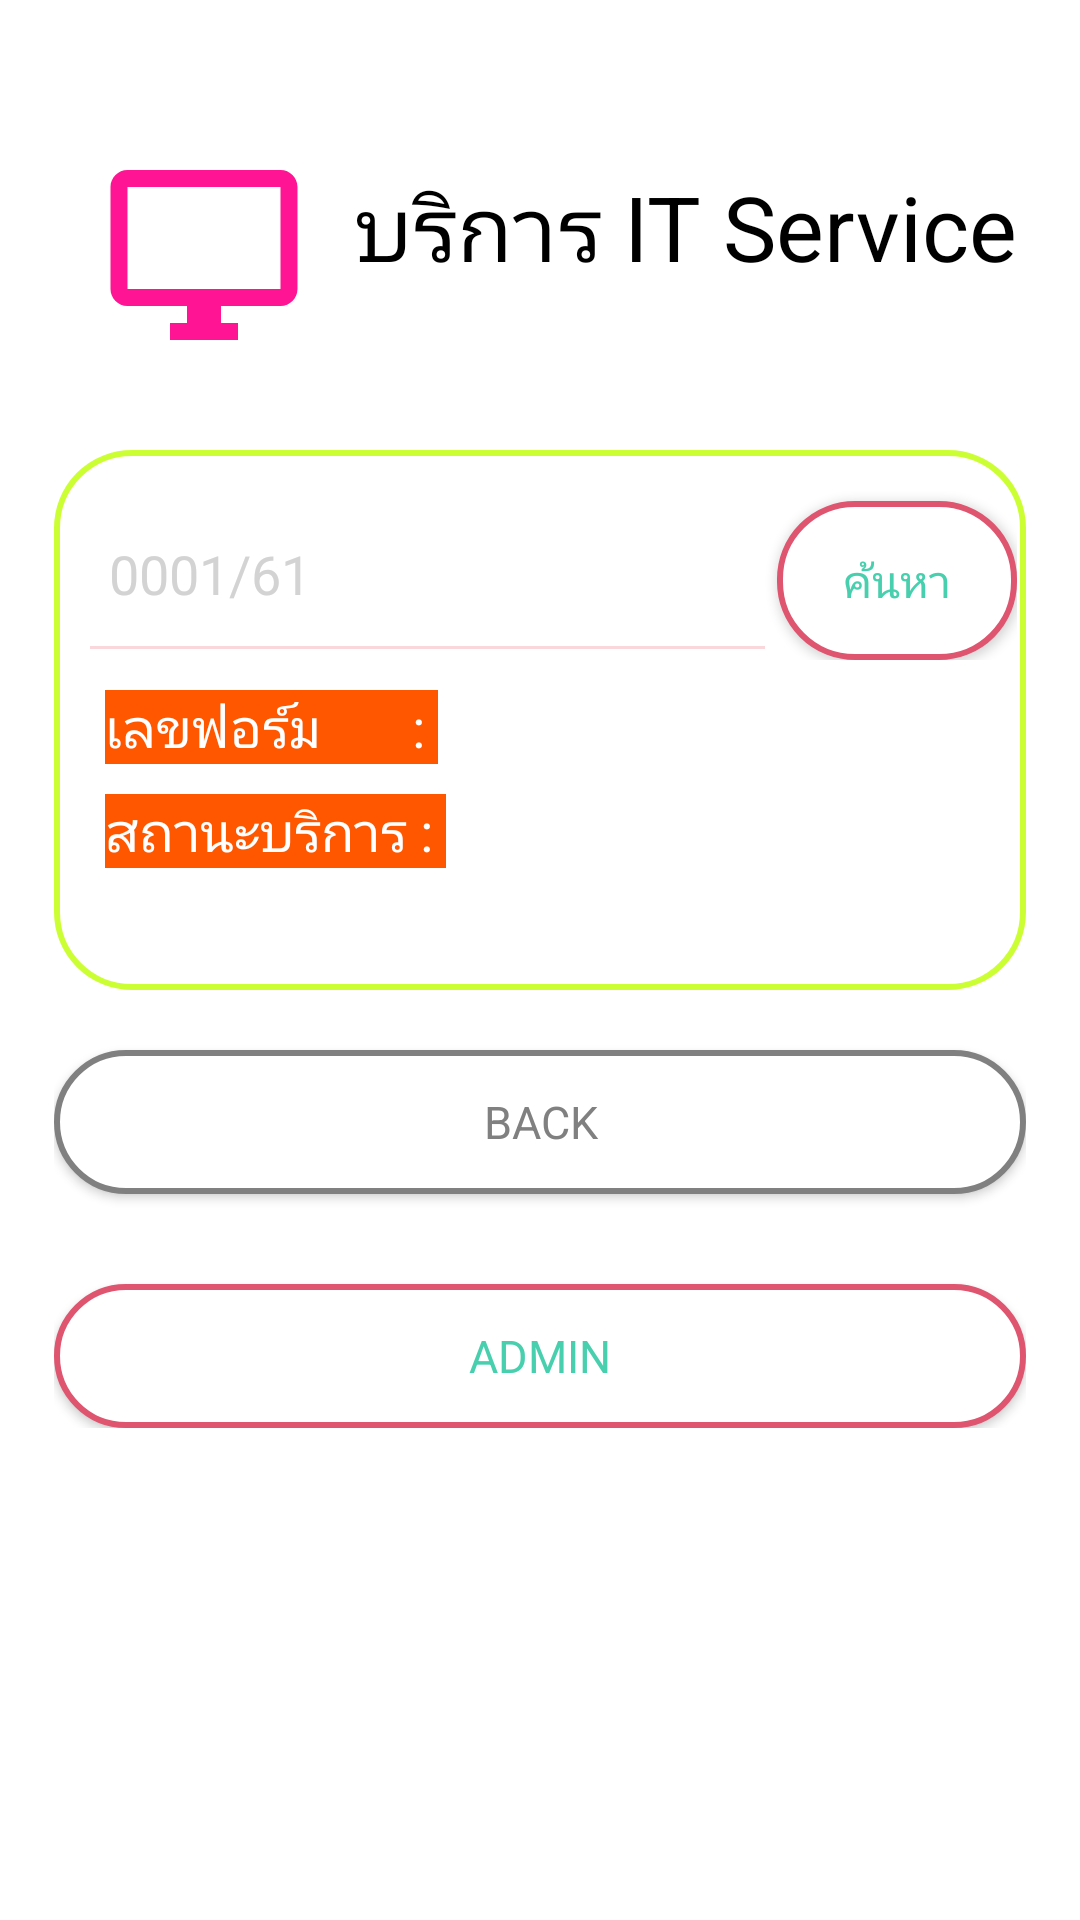

Screen size 1080px×1920px. Icon name, then its center in pixels as point (x, y):
desktop: point (204, 255)
